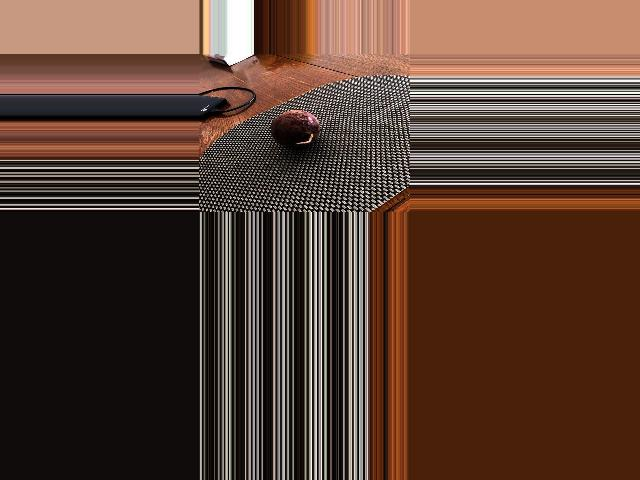beet: (270, 110, 319, 147)
